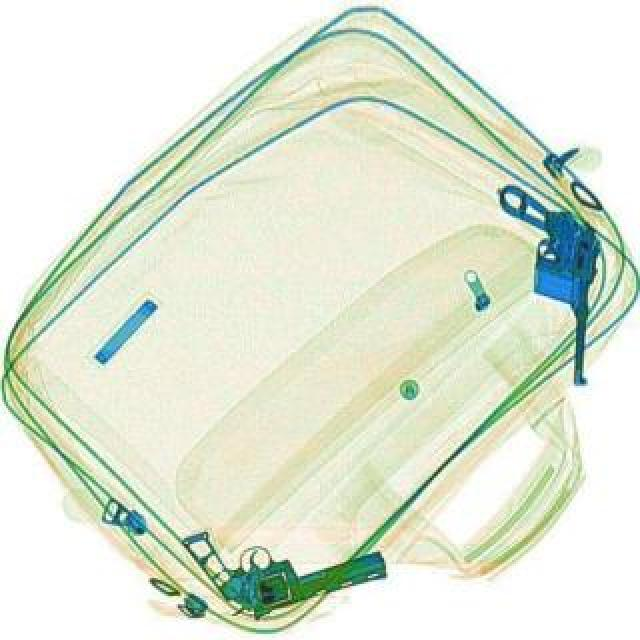gun: (176, 486, 392, 632), (490, 180, 602, 386)
